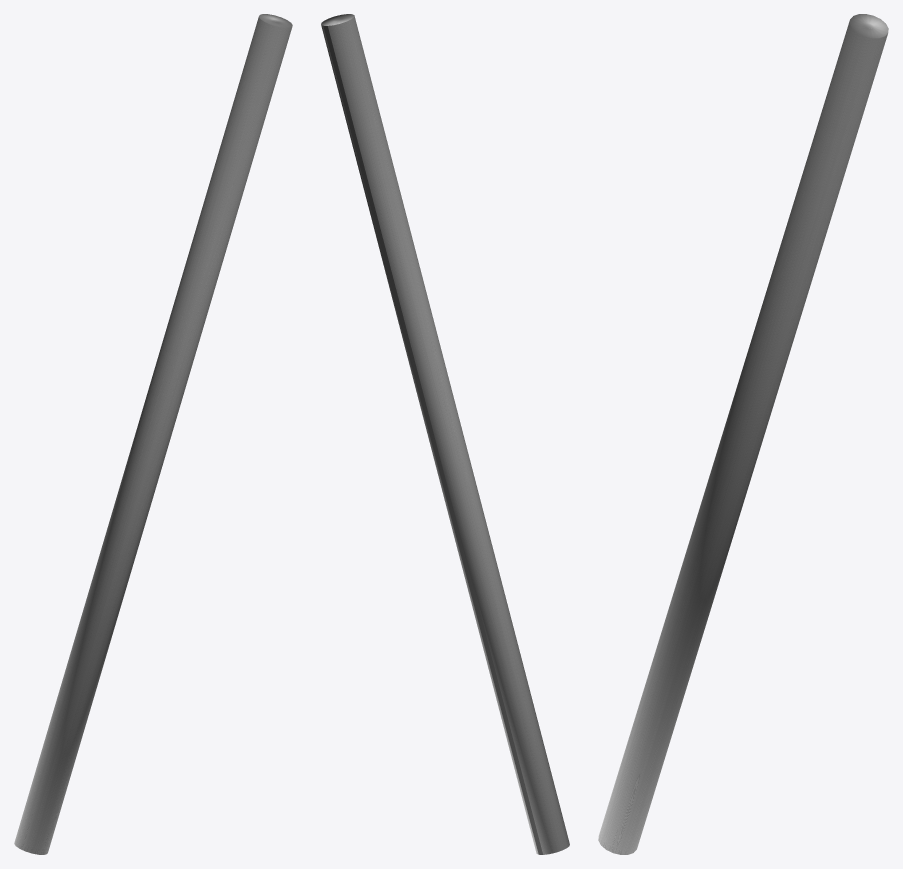
Rendered from mezclador.obj.
3 views of the same model, side by side, from view 1: azimuth 30°, elevation 25°; view 2: azimuth 150°, elevation 25°; view 3: azimuth 330°, elevation 25° (orthographic). The views are drawn at different scales.
Visible parts, largest first — view 1: lab_equipment:glass_rod_Cylinder_005_glass_001; view 2: lab_equipment:glass_rod_Cylinder_005_glass_001; view 3: lab_equipment:glass_rod_Cylinder_005_glass_001.
Part boxes in pixels (x1,y1,x2,y2): lab_equipment:glass_rod_Cylinder_005_glass_001: (14,14,292,854); lab_equipment:glass_rod_Cylinder_005_glass_001: (321,14,569,854); lab_equipment:glass_rod_Cylinder_005_glass_001: (598,14,888,854).
Size of the model in its own units: 0.1368 by 0.3948 by 0.0273.
Materials: 1 (1 with a texture image).
